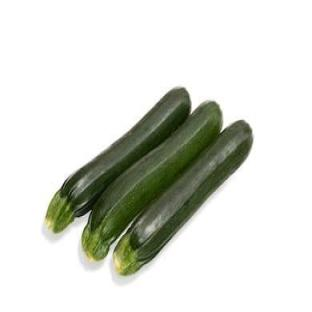Zucchini: (82, 102, 222, 260), (114, 122, 252, 274), (46, 88, 190, 232)
